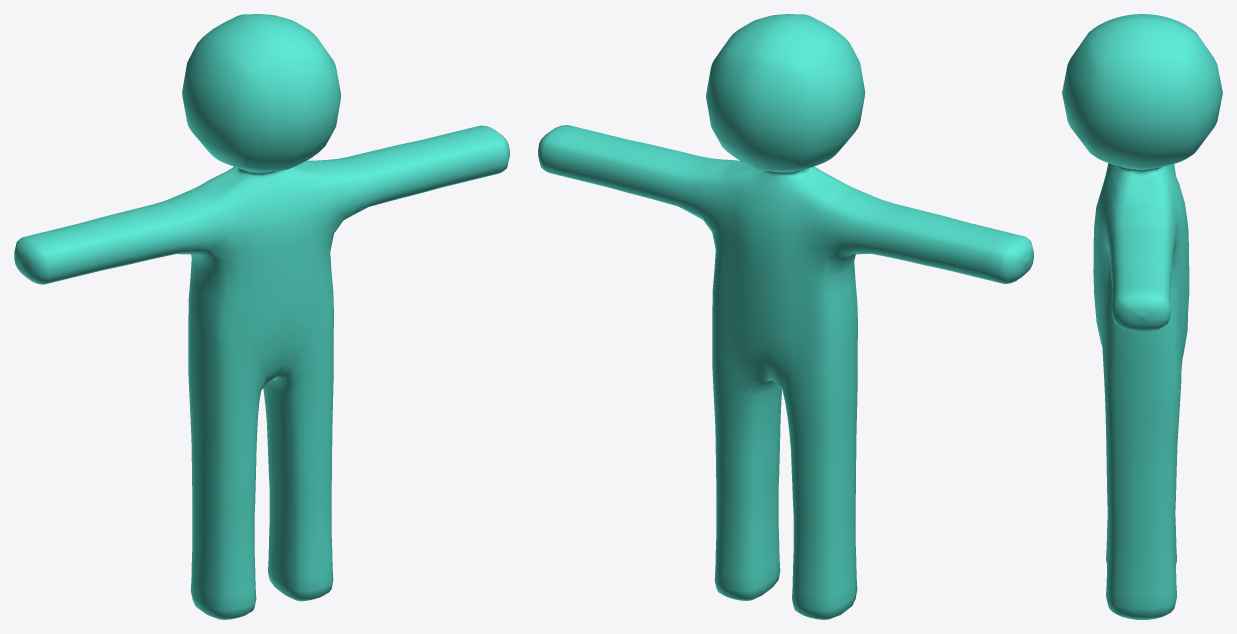
File: sticman.fbx
The picture shows the model from 3 angles, left to right: view 1: azimuth 30°, elevation 25°; view 2: azimuth 150°, elevation 25°; view 3: azimuth 270°, elevation 25°; orthographic projection.
Parts seen in each view (by area): view 1: Cube; view 2: Cube; view 3: Cube.
Part boxes in pixels (x1=…): Cube: x1=14, y1=14, x2=509, y2=619; Cube: x1=538, y1=14, x2=1033, y2=619; Cube: x1=1062, y1=14, x2=1222, y2=619.
Bounding box in the file's own units: 714 × 826 × 209.
